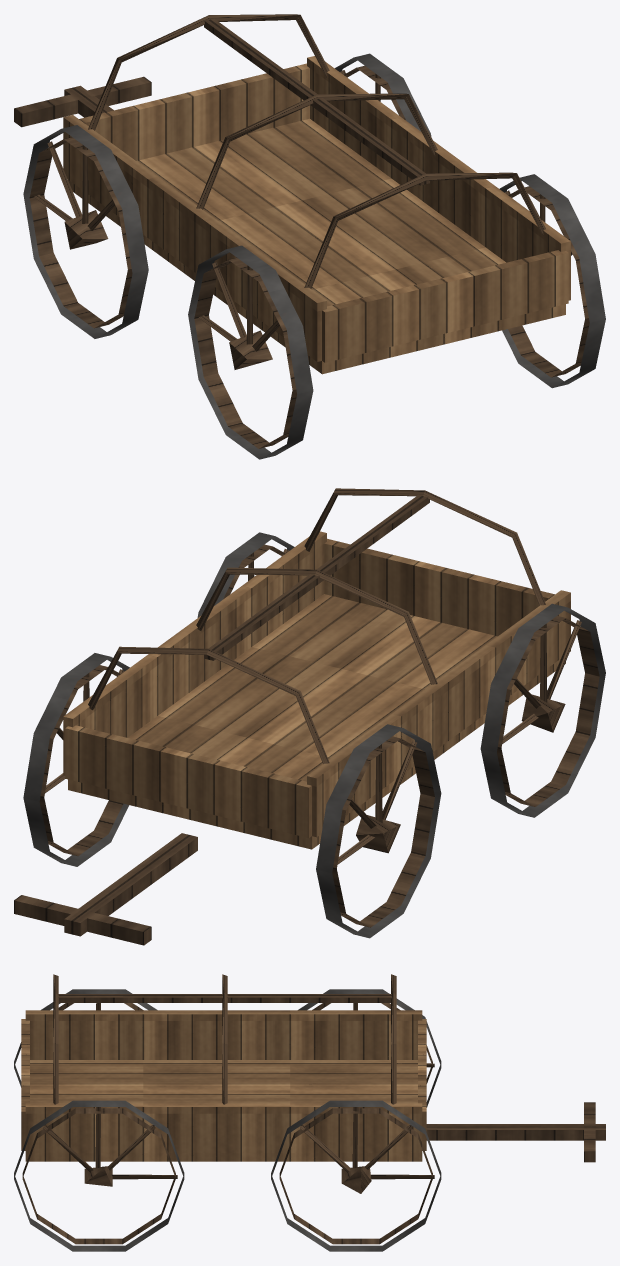
Rendered from Prop_Wagon_LOD1.gltf.
3 views of the same model, one above another, from view 1: azimuth 30°, elevation 25°; view 2: azimuth 150°, elevation 25°; view 3: azimuth 270°, elevation 25° (orthographic). The views are drawn at different scales.
Visible parts, largest first — view 1: Prop_Wagon_LOD1; view 2: Prop_Wagon_LOD1; view 3: Prop_Wagon_LOD1.
Boxes of the visible parts, left/top/right/bottom form: Prop_Wagon_LOD1: left=14, top=14, right=605, bottom=459; Prop_Wagon_LOD1: left=14, top=488, right=605, bottom=945; Prop_Wagon_LOD1: left=14, top=974, right=605, bottom=1251.
Bounding box in the file's own units: 1.95 × 1.5 × 4.02.
Materials: 3 (3 with a texture image).
